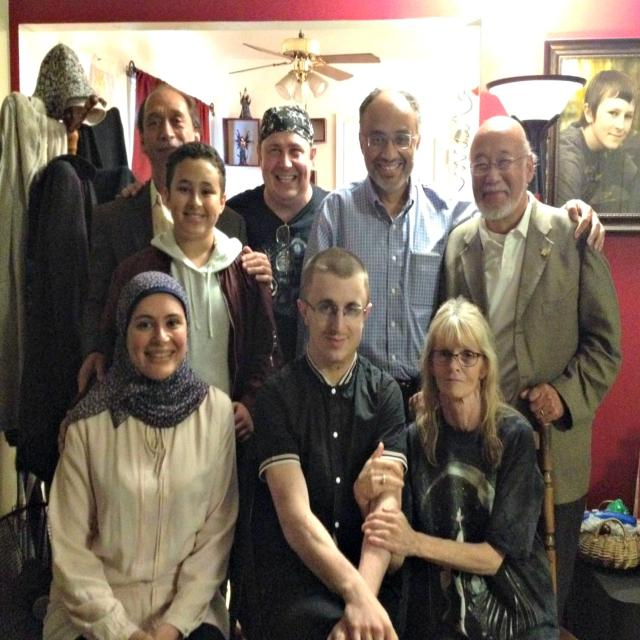body: (299, 85, 607, 425), (442, 112, 625, 640), (96, 135, 276, 640), (26, 264, 248, 639), (350, 293, 562, 640), (246, 241, 412, 640), (74, 83, 250, 398), (222, 104, 343, 363), (556, 63, 640, 191)
